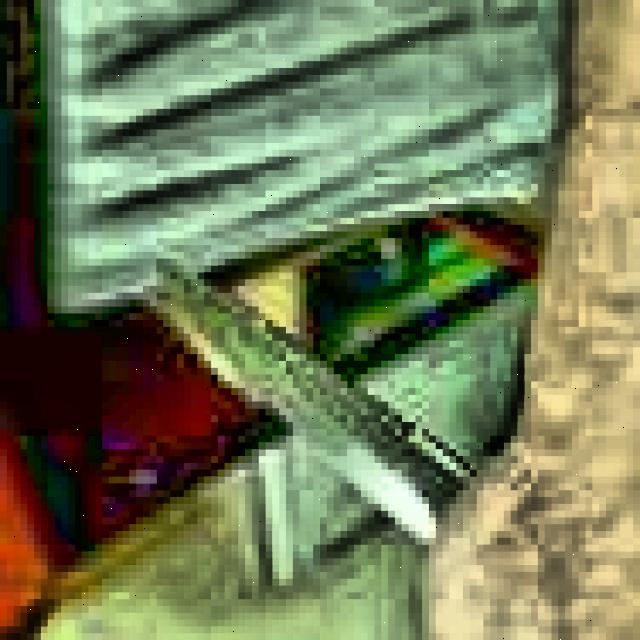knife: (156, 262, 474, 550)
